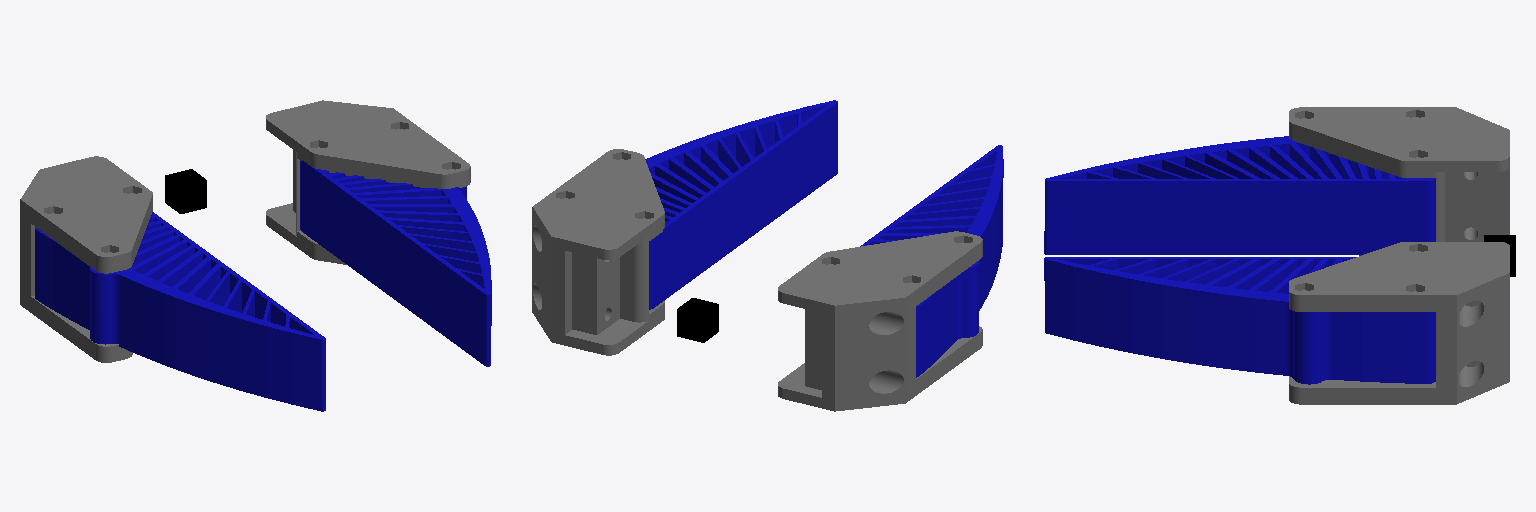
URDF robot description (tri_finray_gripper):
<?xml version="1.0" encoding="utf-8"?>
<robot name="tri_finray_gripper">
  <material name="black">
    <color rgba="0.0 0.0 0.0 0.1"/>
  </material>
  <material name="white">
    <color rgba="1.0 1.0 1.0 1.0"/>
  </material>
  <material name="blue">
    <color rgba="0.1 0.1 0.8 1.0"/>
  </material>
  <material name="gray">
    <color rgba="0.5 0.5 0.5 1.0"/>
  </material>
  <link name="base_link">
    <visual>
      <origin rpy="0 0 0" xyz="0 0 0"/>
      <geometry>
        <box size="0.01 0.01 0.01"/>
      </geometry>
      <material name="black"/>
    </visual>
  </link>
  <link name="finger_holder_left">
    <visual>
      <origin rpy="0 0 0" xyz="0 0 0"/>
      <geometry>
        <mesh filename="package://blender_models/tri_finray_gripper/meshes/wsg50_mount - finger_holder_left.obj" scale="0.001 0.001 0.001"/>
      </geometry>
      <material name="gray"/>
    </visual>
    <collision>
      <geometry>
        <box size="0.04 0.06979999499999999 0.038"/>
      </geometry>
      <origin rpy="0.0 -0.0 0.0" xyz="-0.02 -0.11160000249999999 0.0"/>
    </collision>
  </link>
  <link name="finger_holder_right">
    <visual>
      <origin rpy="0 0 0" xyz="0 0 0"/>
      <geometry>
        <mesh filename="package://blender_models/tri_finray_gripper/meshes/wsg50_mount - finger_holder_right.obj" scale="0.001 0.001 0.001"/>
      </geometry>
      <material name="gray"/>
    </visual>
    <collision>
      <geometry>
        <box size="0.04 0.06979999499999999 0.038"/>
      </geometry>
      <origin rpy="0.0 -0.0 0.0" xyz="0.02 -0.11160000249999999 0.0"/>
    </collision>
  </link>
  <link name="soft_finger_left">
    <visual>
      <origin rpy="0 0 0" xyz="0 0 0"/>
      <geometry>
        <mesh filename="package://blender_models/tri_finray_gripper/meshes/soft_gripper_finger.obj" scale="0.001 0.001 0.001"/>
      </geometry>
      <material name="blue"/>
    </visual>
    <collision>
      <geometry>
        <box size="0.039999924 0.025800001000000003 0.123364487"/>
      </geometry>
      <origin rpy="0.0 -0.0 0.0" xyz="0.019999962 -0.012900000500000001 -0.0616822435"/>
    </collision>
  </link>
  <link name="soft_finger_right">
    <visual>
      <origin rpy="0 0 0" xyz="0 0 0"/>
      <geometry>
        <mesh filename="package://blender_models/tri_finray_gripper/meshes/soft_gripper_finger.obj" scale="0.001 0.001 0.001"/>
      </geometry>
      <material name="blue"/>
    </visual>
    <collision>
      <geometry>
        <box size="0.039999924 0.025800001000000003 0.123364487"/>
      </geometry>
      <origin rpy="0.0 -0.0 0.0" xyz="0.019999962 -0.012900000500000001 -0.0616822435"/>
    </collision>
  </link>
  <joint name="base_to_left_holder" type="fixed">
    <parent link="base_link"/>
    <child link="finger_holder_left"/>
    <origin rpy="0 0 0" xyz="-0.03 0.08 0"/>
  </joint>
  <joint name="base_to_right_holder" type="fixed">
    <parent link="base_link"/>
    <child link="finger_holder_right"/>
    <origin rpy="0 0 0" xyz="0.03 0.08 0"/>
  </joint>
  <joint name="left_holder_to_finger" type="fixed">
    <parent link="finger_holder_left"/>
    <child link="soft_finger_left"/>
    <origin rpy="-1.57 3.14 0" xyz="0.0 -0.1 0.012"/>
  </joint>
  <joint name="right_holder_to_finger" type="fixed">
    <parent link="finger_holder_right"/>
    <child link="soft_finger_right"/>
    <origin rpy="-1.57 0 0" xyz="0.0 -0.1 -0.012"/>
  </joint>
</robot>

--- What the picture shows (computed from the rendered views, not written in the file) ---
Views: 3 orthographic renders of the robot side by side, from view 1: azimuth 30°, elevation 25°; view 2: azimuth 150°, elevation 25°; view 3: azimuth 270°, elevation 25°.
Model tri_finray_gripper with 5 links and 4 joints (4 fixed), rooted at base_link, posed all joints at 0.
Links seen in each view (by area): view 1: soft_finger_left, soft_finger_right, finger_holder_left, finger_holder_right, base_link; view 2: finger_holder_left, soft_finger_right, finger_holder_right, soft_finger_left, base_link; view 3: soft_finger_left, soft_finger_right, finger_holder_right, finger_holder_left.
Link boxes in pixels (x1,y1,x2,y2): soft_finger_left: [35, 212, 325, 411]; soft_finger_right: [300, 160, 491, 366]; finger_holder_left: [20, 156, 152, 362]; finger_holder_right: [266, 100, 470, 264]; base_link: [165, 169, 206, 213]; finger_holder_left: [778, 231, 982, 411]; soft_finger_right: [645, 100, 837, 309]; finger_holder_right: [532, 149, 664, 355]; soft_finger_left: [860, 145, 1003, 377]; base_link: [677, 298, 718, 342]; soft_finger_left: [1044, 136, 1435, 254]; soft_finger_right: [1044, 257, 1435, 384]; finger_holder_right: [1289, 242, 1509, 404]; finger_holder_left: [1289, 107, 1509, 255].
Size in the robot's own frame: 0.14 by 0.1484 by 0.038 metres.
Meshes: 3 distinct files referenced, 4 mesh visuals loaded (3 OBJ).
